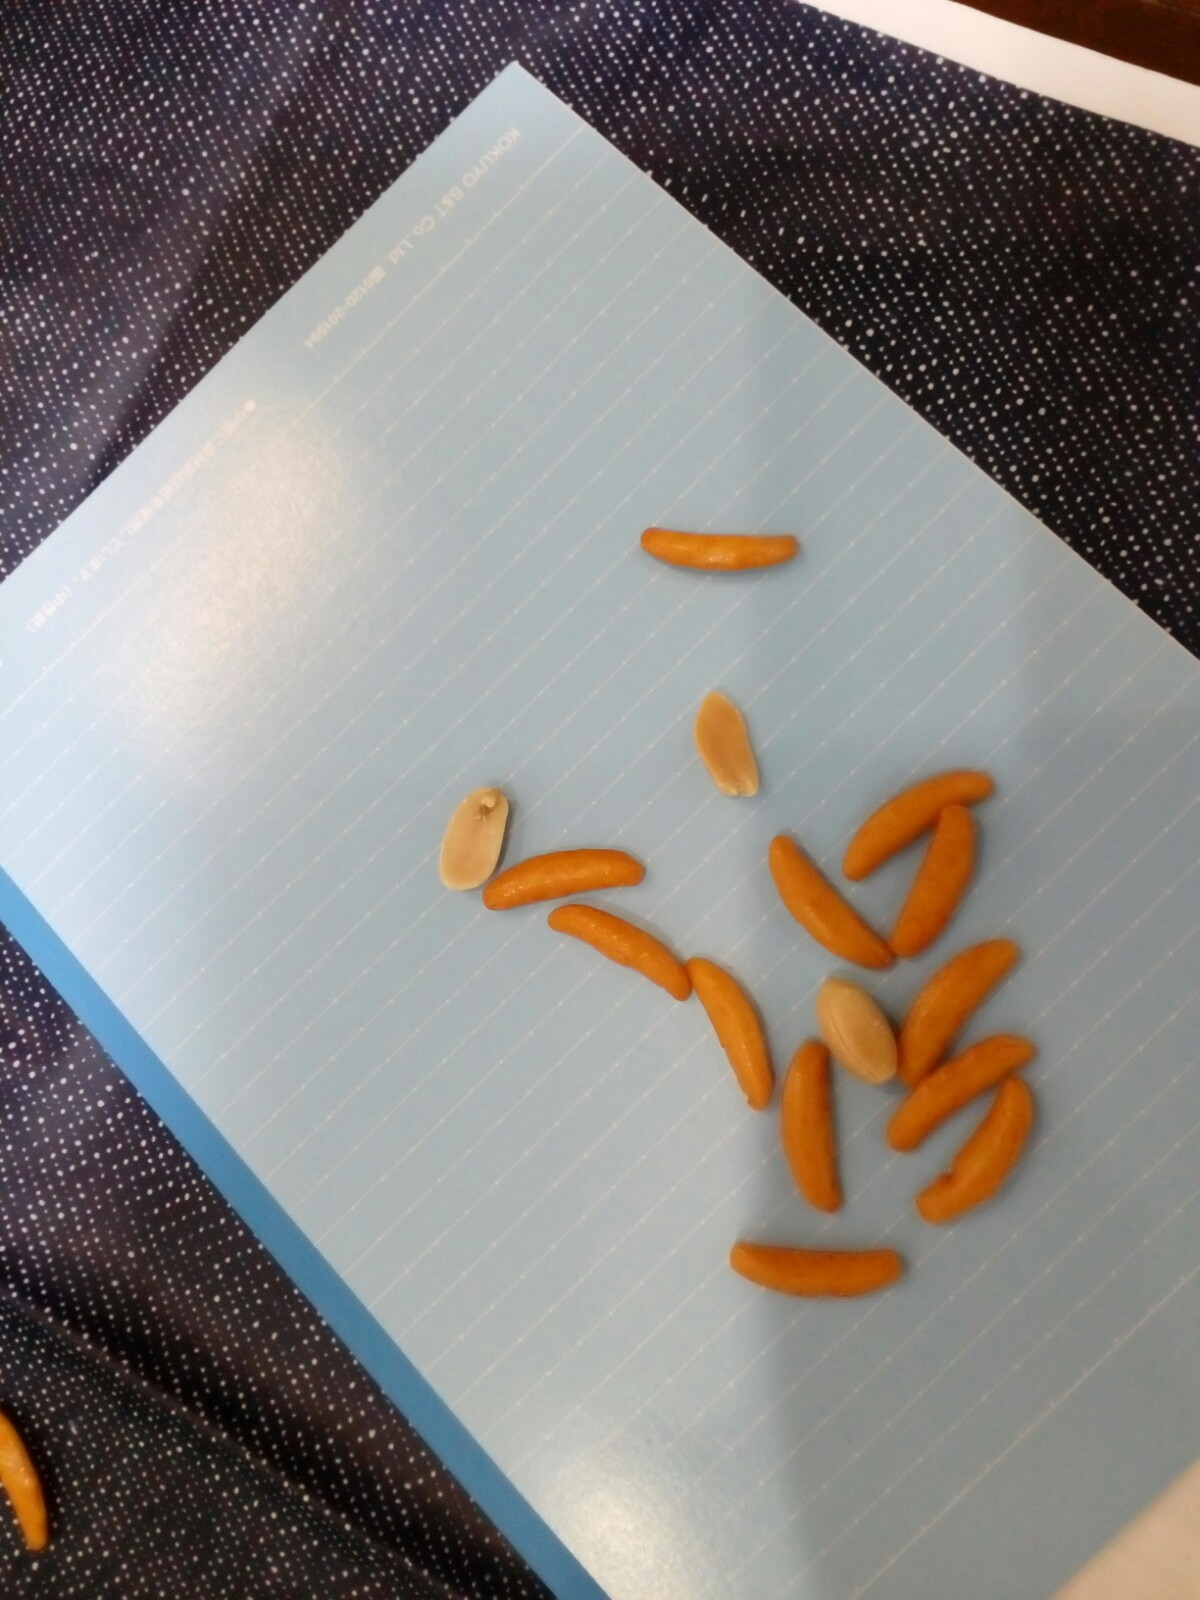peanut: (811, 965, 905, 1094), (429, 774, 524, 897), (684, 682, 771, 806)
